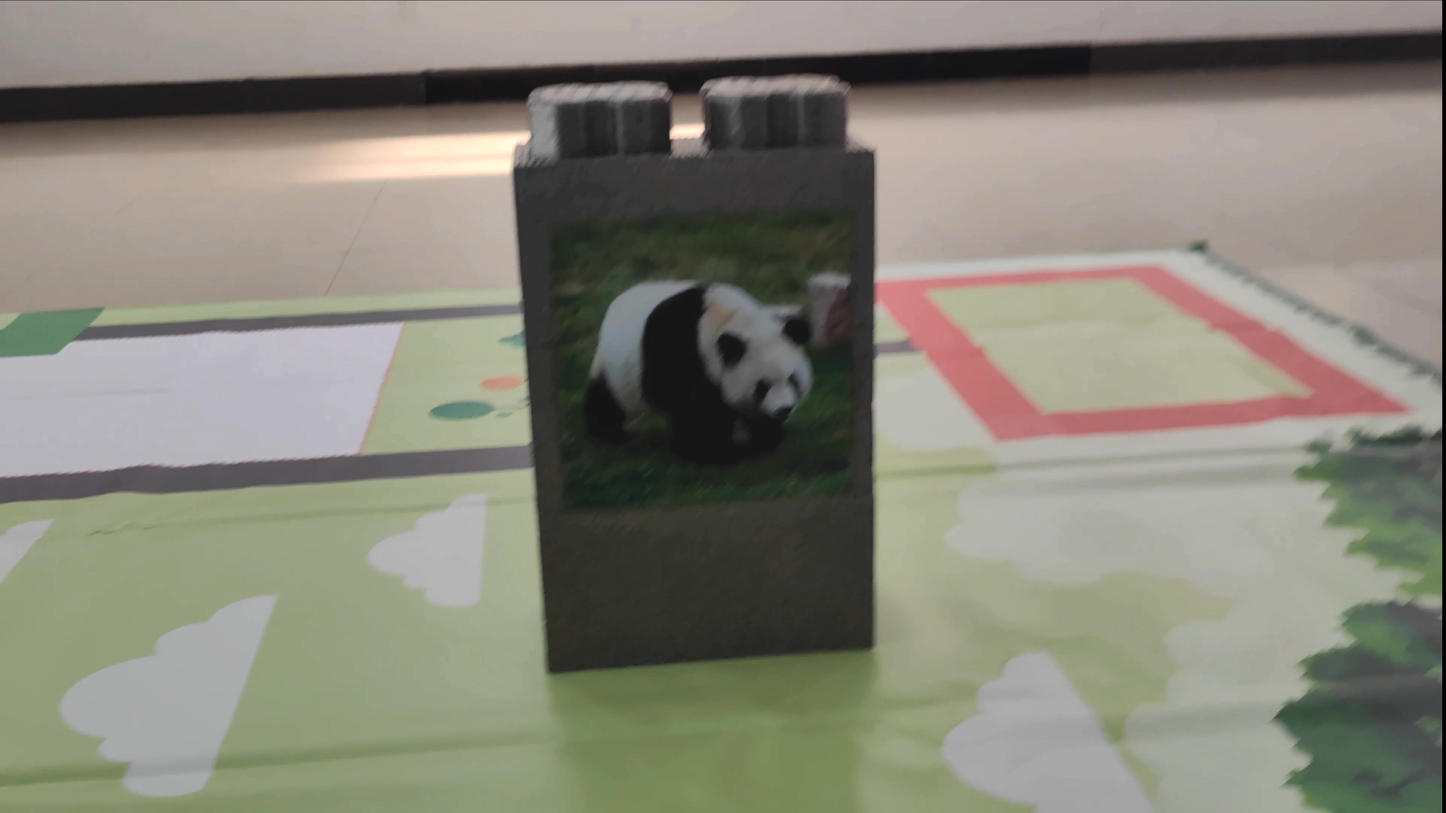panda: (567, 248, 831, 502)
